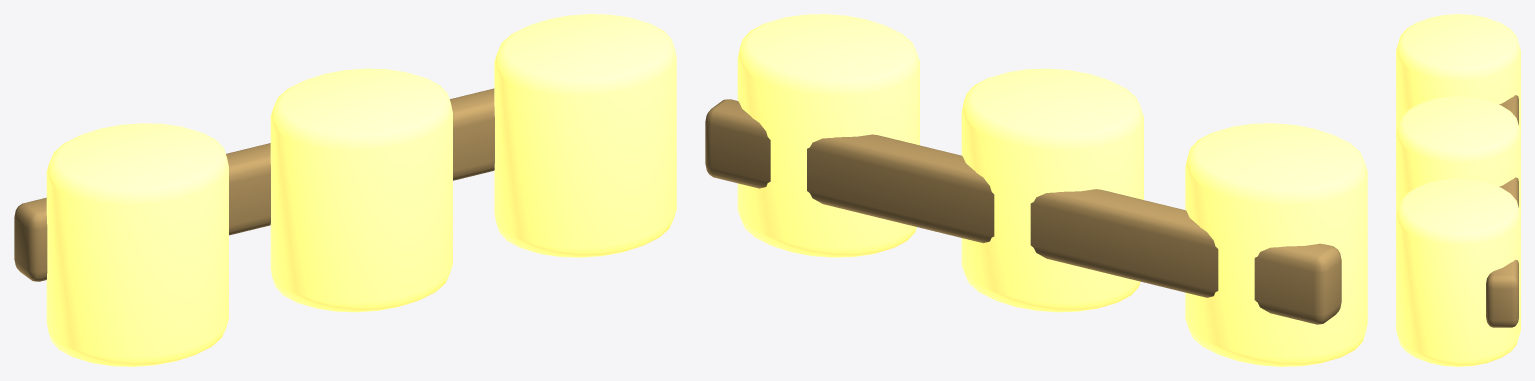
File: bath-three-light.glb
The picture shows the model from 3 angles, left to right: view 1: azimuth 30°, elevation 25°; view 2: azimuth 150°, elevation 25°; view 3: azimuth 270°, elevation 25°; orthographic projection. The views are drawn at different scales.
Parts seen in each view (by area): view 1: bath-three-light; view 2: bath-three-light; view 3: bath-three-light.
Boxes of the visible parts, box(x1,y1,x2,y2) form: bath-three-light: box(14, 14, 676, 366); bath-three-light: box(705, 14, 1367, 366); bath-three-light: box(1396, 14, 1520, 366).
Size of the model in its own units: 0.65 by 0.18 by 0.15.
